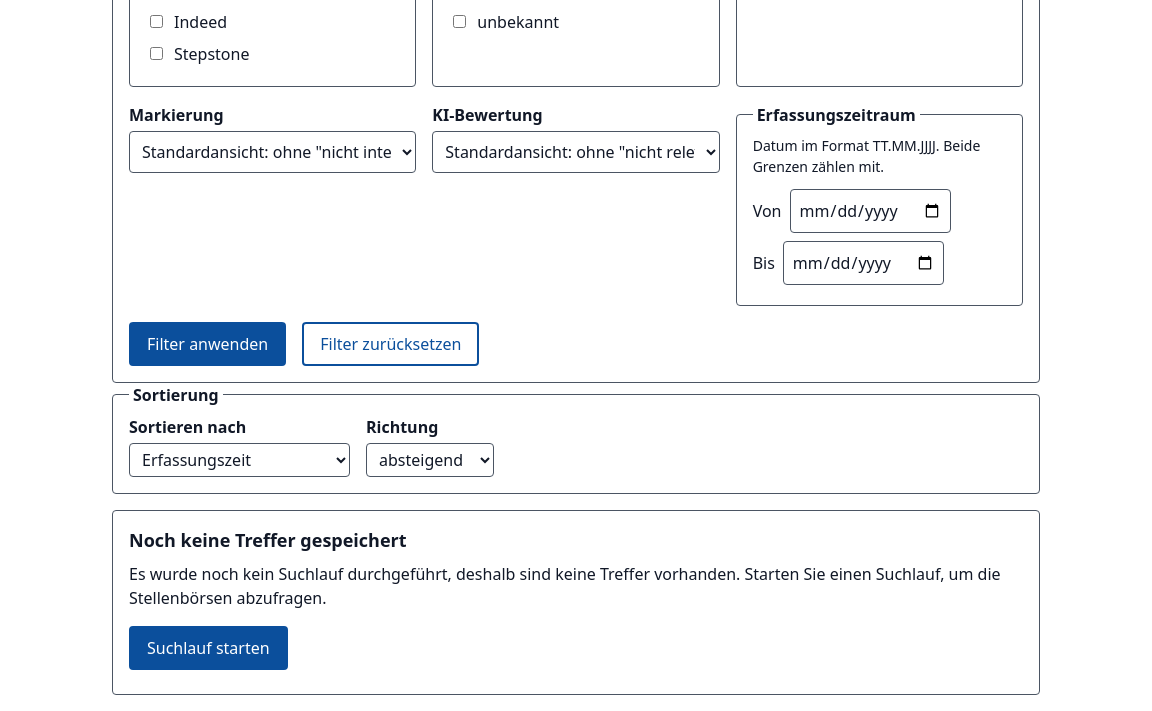
Test: starting a Scrape_Run from a route › starts a Scrape_Run from the empty posting overview of 10.12
(page scrolled)
Expected: the heading "Noch keine Treffer gespeichert" is shown, [129, 528, 407, 552]
Click the button "Suchlauf starten" at point(208, 648), box [129, 626, 288, 670]
(page scrolled)
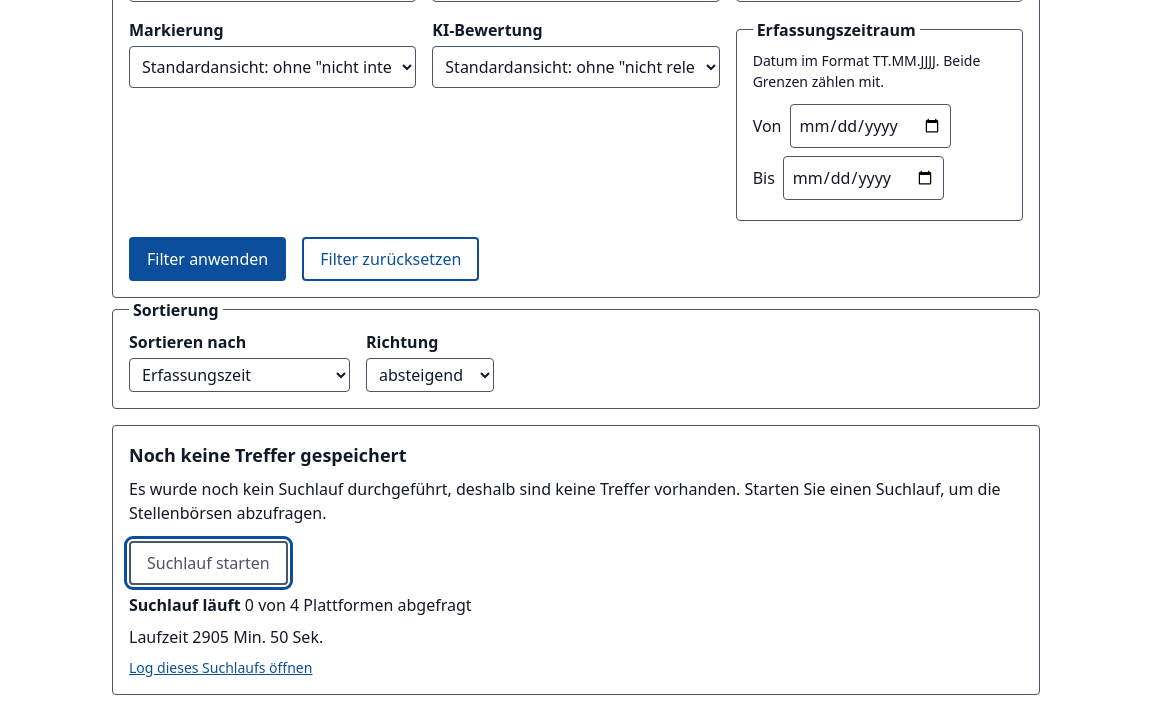
Expected: the text "Suchlauf läuft" is shown, [129, 594, 241, 616]
